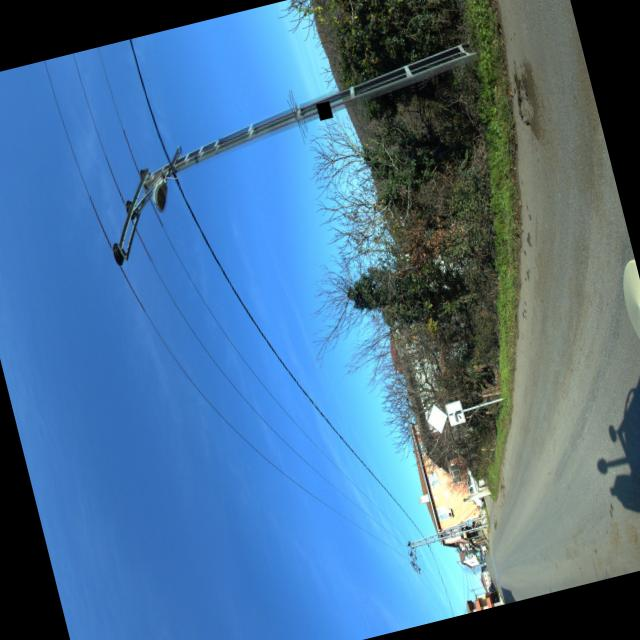Utility Pole Information Plate: (316, 100, 332, 119)
